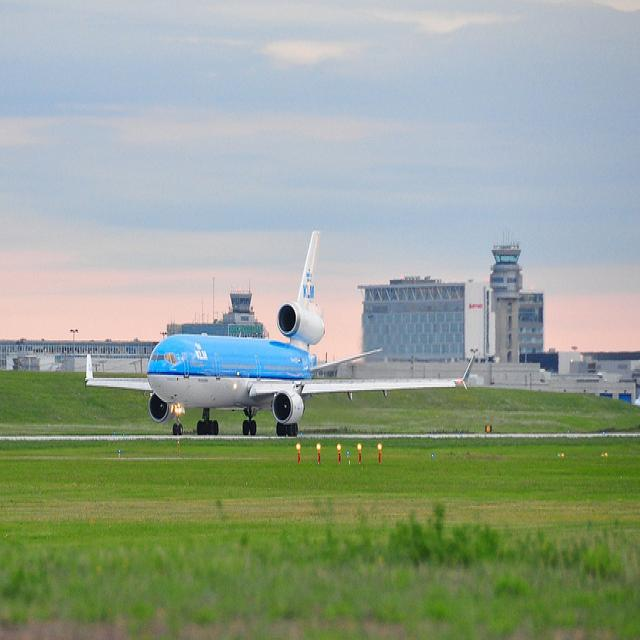airplane: (84, 228, 386, 440)
